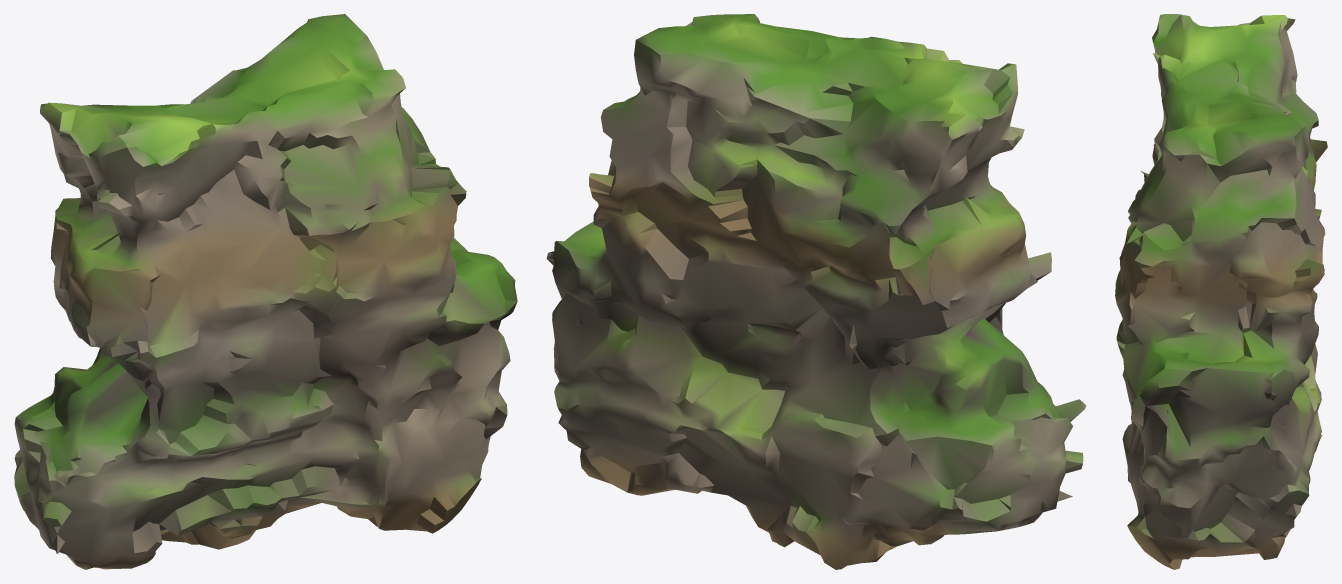
The model's file is glade_cliff_wall_a.glb.
3 views of the same model, side by side, from view 1: azimuth 30°, elevation 25°; view 2: azimuth 150°, elevation 25°; view 3: azimuth 270°, elevation 25° (orthographic). The views are drawn at different scales.
Parts seen in each view (by area): view 1: glade_cliff_wall_a; view 2: glade_cliff_wall_a; view 3: glade_cliff_wall_a.
Boxes of the visible parts, left/top/right/bottom form: glade_cliff_wall_a: left=14, top=14, right=517, bottom=569; glade_cliff_wall_a: left=546, top=14, right=1086, bottom=569; glade_cliff_wall_a: left=1115, top=14, right=1327, bottom=569.
Size of the model in its own units: 16.89 by 15.95 by 7.4.
